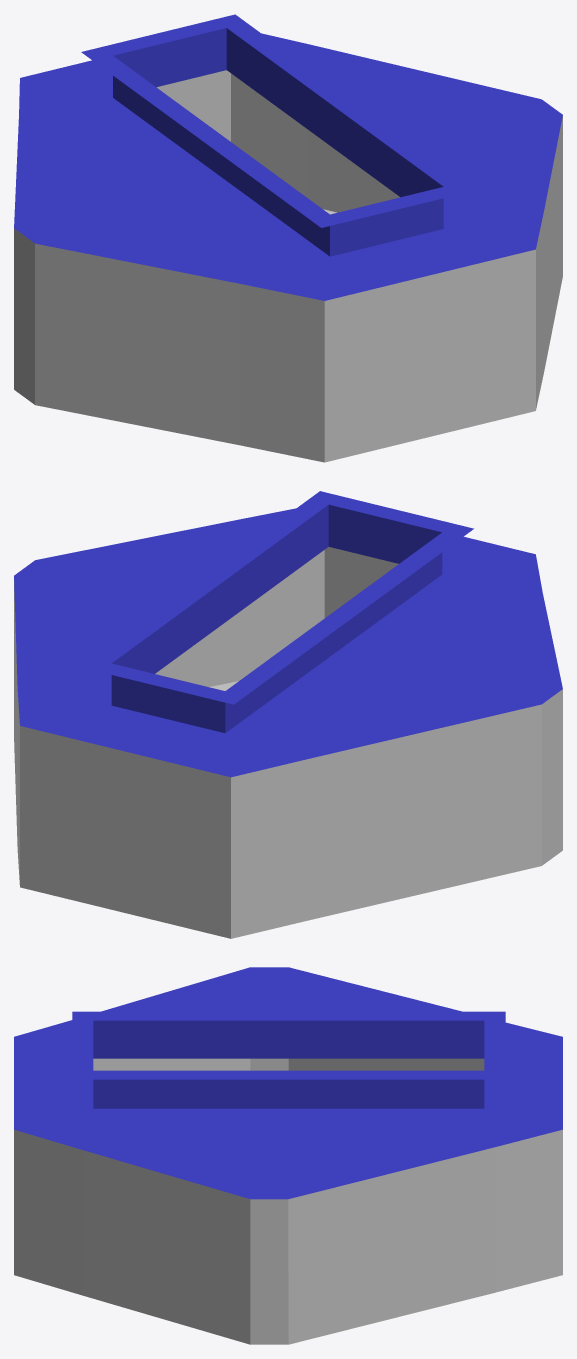
Rendered from Pool.fbx.
The picture shows the model from 3 angles, top to bottom: view 1: azimuth 30°, elevation 25°; view 2: azimuth 150°, elevation 25°; view 3: azimuth 270°, elevation 25°; orthographic projection. The views are drawn at different scales.
Parts seen in each view (by area): view 1: Pool; view 2: Pool; view 3: Pool.
Part boxes in pixels (x1,y1,x2,y2): Pool: (14,14,562,462); Pool: (14,491,562,938); Pool: (14,967,562,1344).
Bounding box in the file's own units: 34.2 × 12.61 × 34.2.
